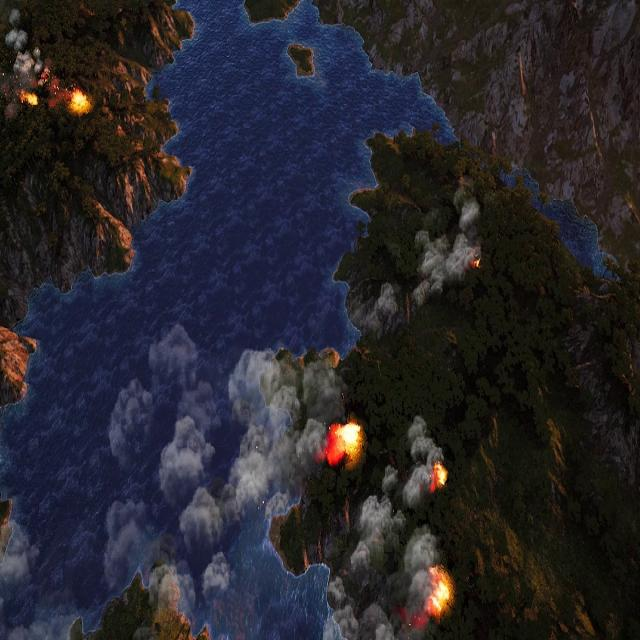fire: (326, 416, 364, 467), (426, 572, 452, 617), (431, 462, 446, 492), (70, 92, 88, 112), (26, 92, 41, 104), (470, 256, 481, 269)
smoke: (103, 322, 349, 606), (330, 417, 447, 640), (0, 520, 76, 640), (419, 191, 484, 288), (0, 1, 50, 95)
